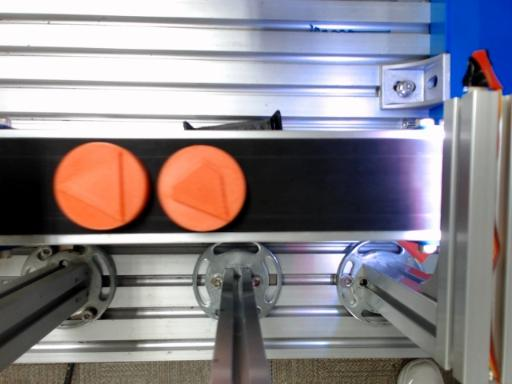Not_Square: (57, 150, 126, 224), (172, 163, 229, 222)
Orange_Waper: (54, 142, 148, 229), (158, 145, 246, 230)
